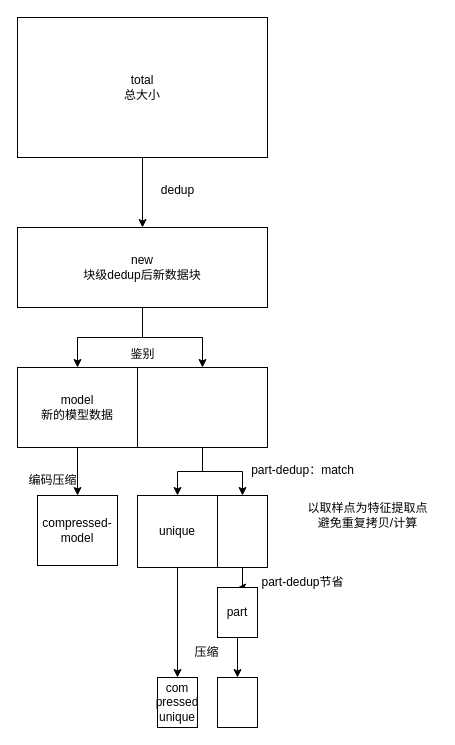
Image size: 455x745. Some labels were removed from this diagram. Each missing label, with the centre of its shape:
"com pressed part" goes at point (237, 702).
"match" goes at point (242, 531).
"non-model 新的模型数据" goes at point (202, 407).
